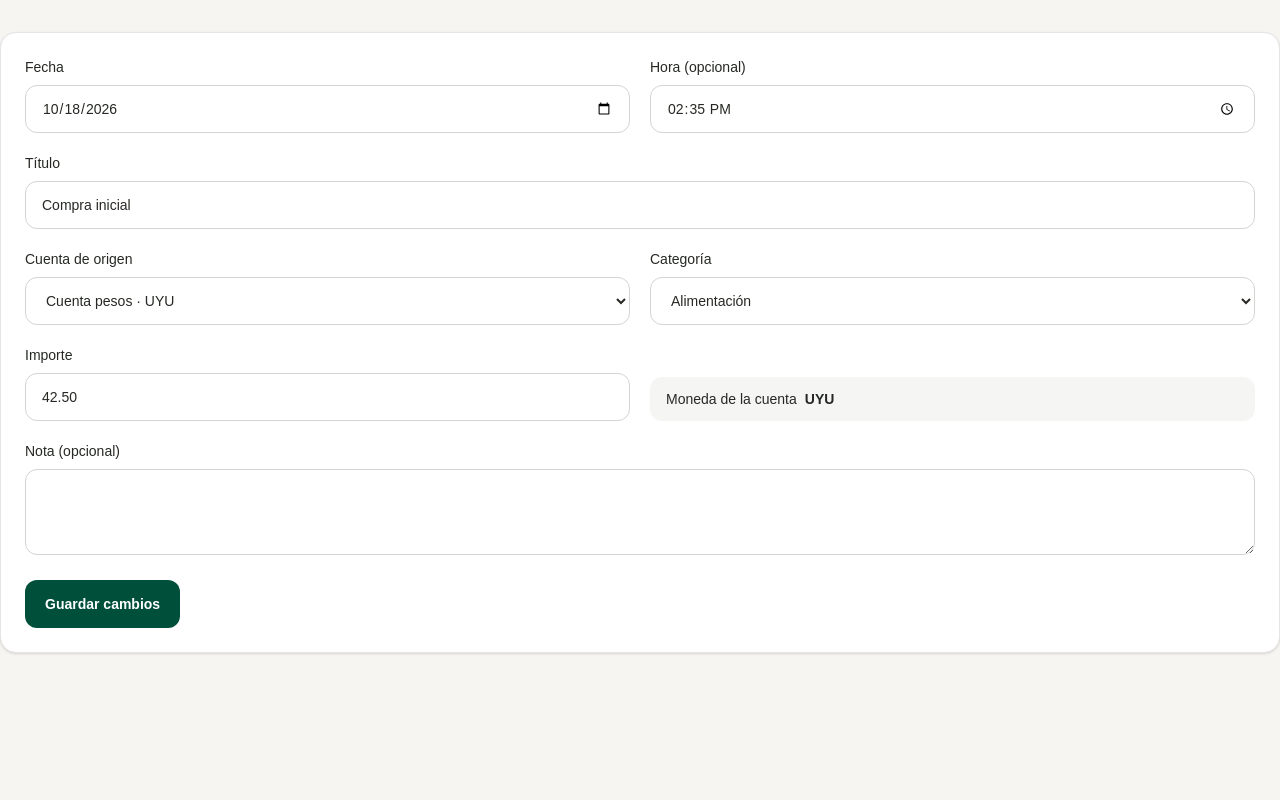
edición de gastos › advierte si la corrección dejará saldo negativo
The width and height of the screenshot is (1280, 800).
Replace the text in the field labelled "Importe" with "60" at [328, 397], box [25,373,630,421]
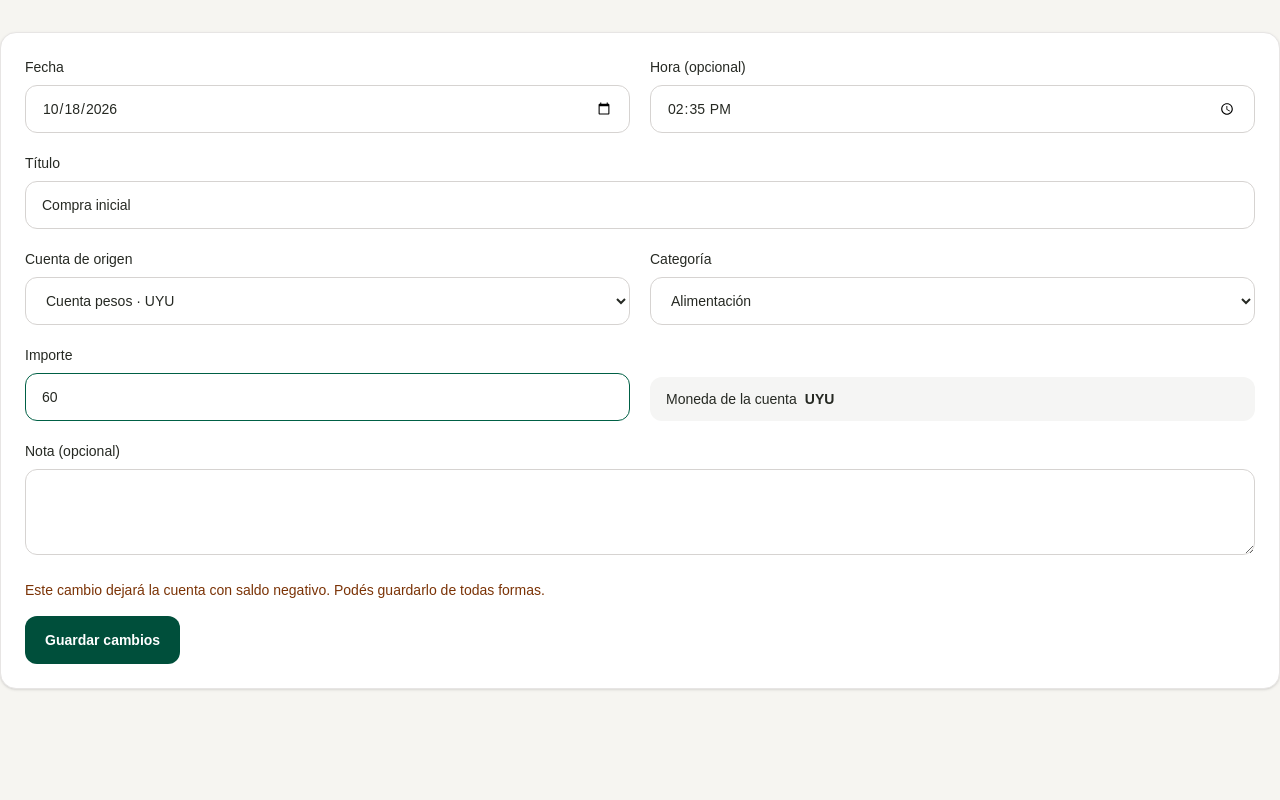
Expected: the text "saldo negativo" is shown, [25,582,545,598]
